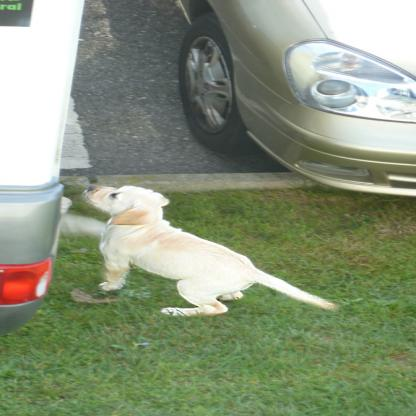Car: (175, 1, 416, 199), (1, 1, 96, 331)
